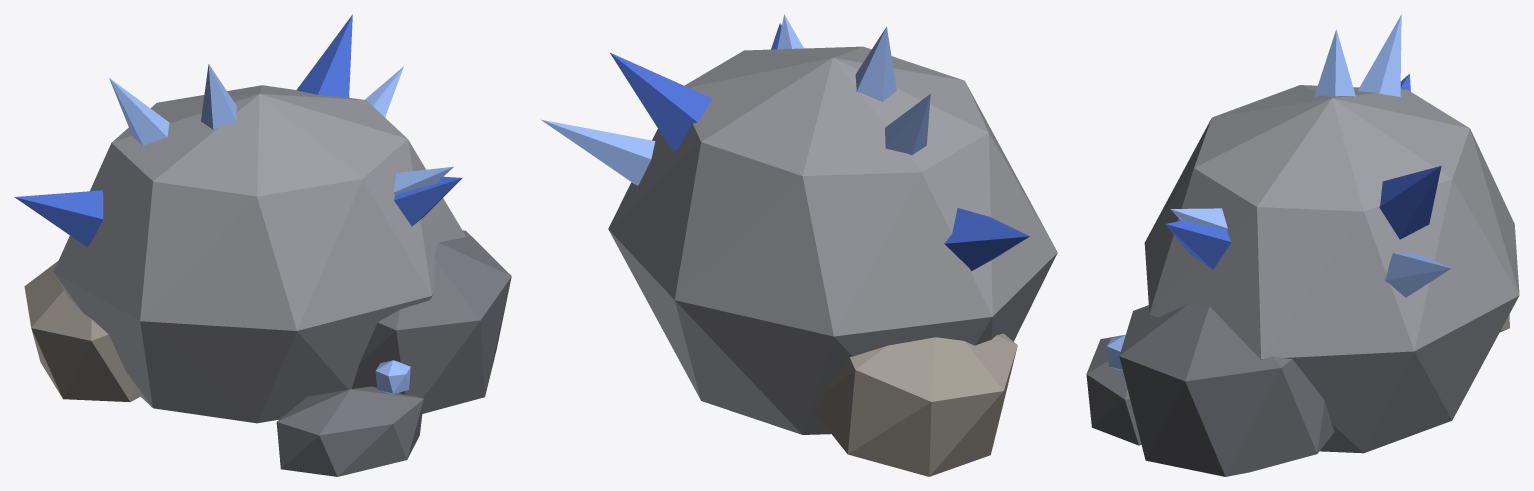
The model's file is rock_mithril.glb.
3 views of the same model, side by side, from view 1: azimuth 30°, elevation 25°; view 2: azimuth 150°, elevation 25°; view 3: azimuth 270°, elevation 25° (orthographic). The views are drawn at different scales.
Parts seen in each view (by area): view 1: rock_mithril; view 2: rock_mithril; view 3: rock_mithril.
Boxes of the visible parts, box(x1,y1,x2,y2) form: rock_mithril: box(14, 14, 511, 476); rock_mithril: box(541, 14, 1057, 476); rock_mithril: box(1086, 14, 1519, 476).
Bounding box in the file's own units: 1.12 × 0.9474 × 0.9646.
